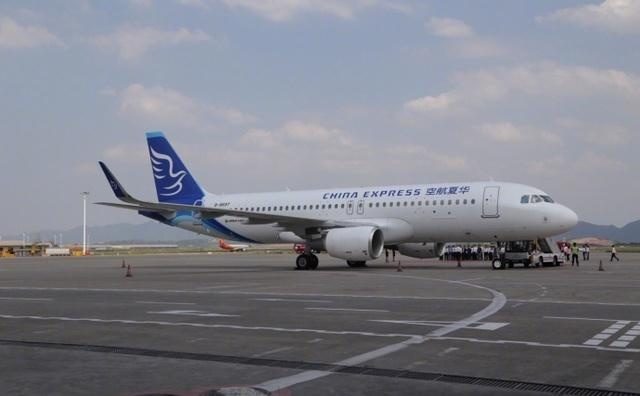airplane: (86, 117, 580, 269)
